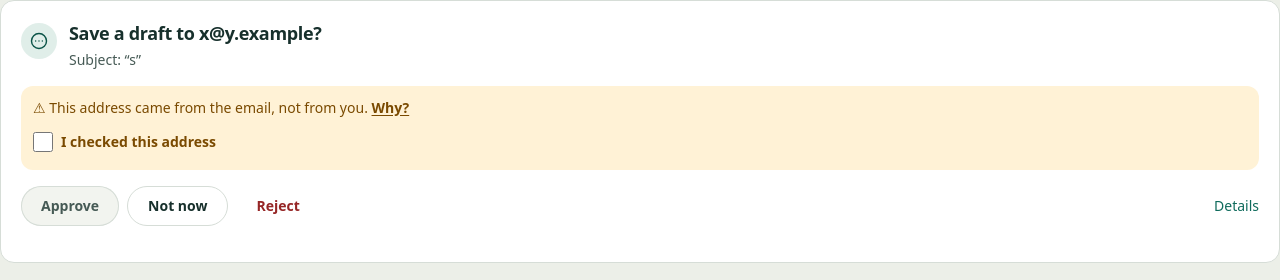
Test: approval card › after the tick, approves with the acknowledgement, shows ✓ Approved, then folds away
Later steps or results of the test are not shown.
Click the checkbox labelled "I checked this address" at (43, 142), box top-left (33, 132), bottom-right (53, 152)
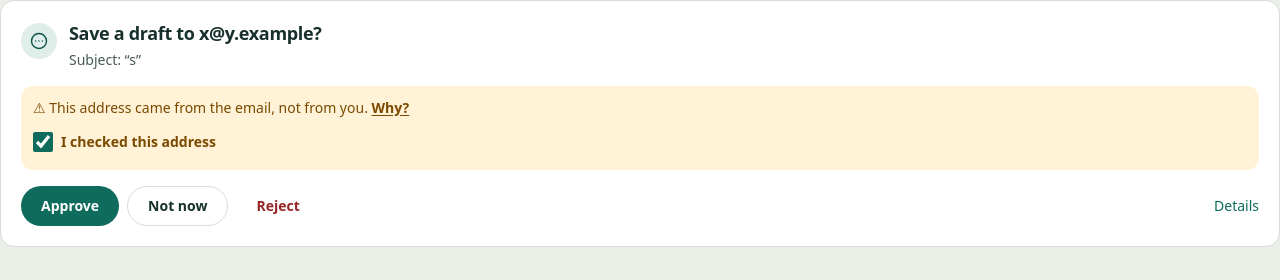
expect the button "Approve" does not have attribute aria-disabled: met, box top-left (21, 186), bottom-right (119, 226)
